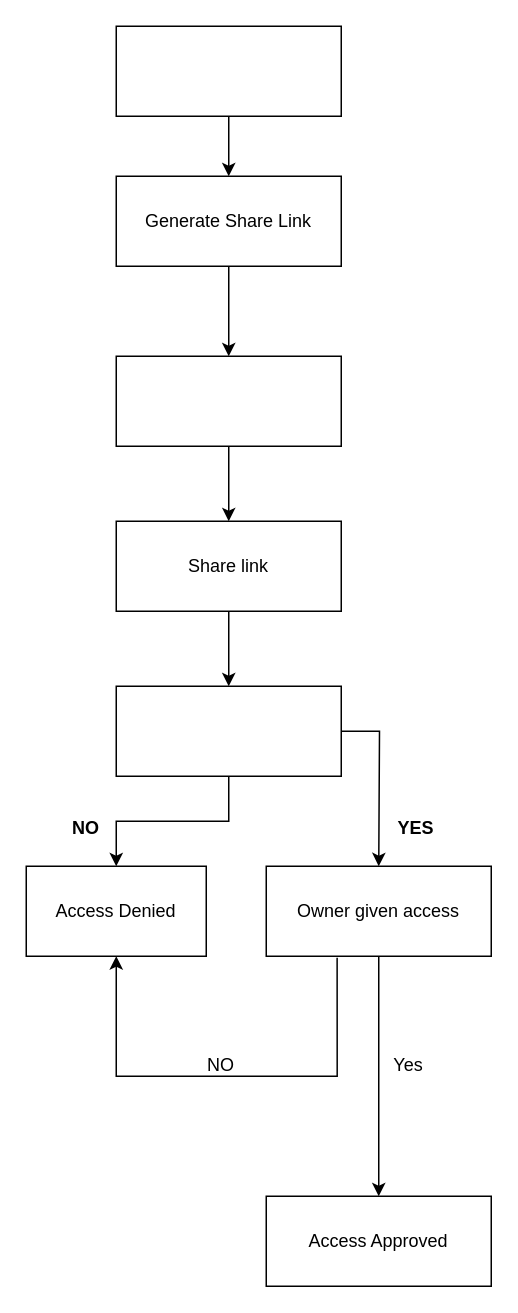
Some shapes in this 518 by 1313 pixel diagram are drawn without their labels. The centre of each missing label's shape, as x and y in pixels:
"Check if link is Active" goes at (x=228, y=730).
"Set link expiry time" goes at (x=228, y=400).
"User Select file" goes at (x=228, y=70).
